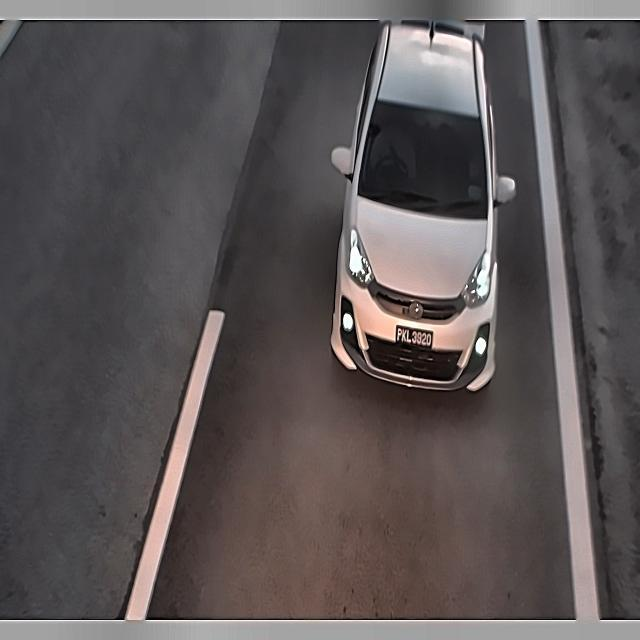car: (392, 322, 438, 354)
